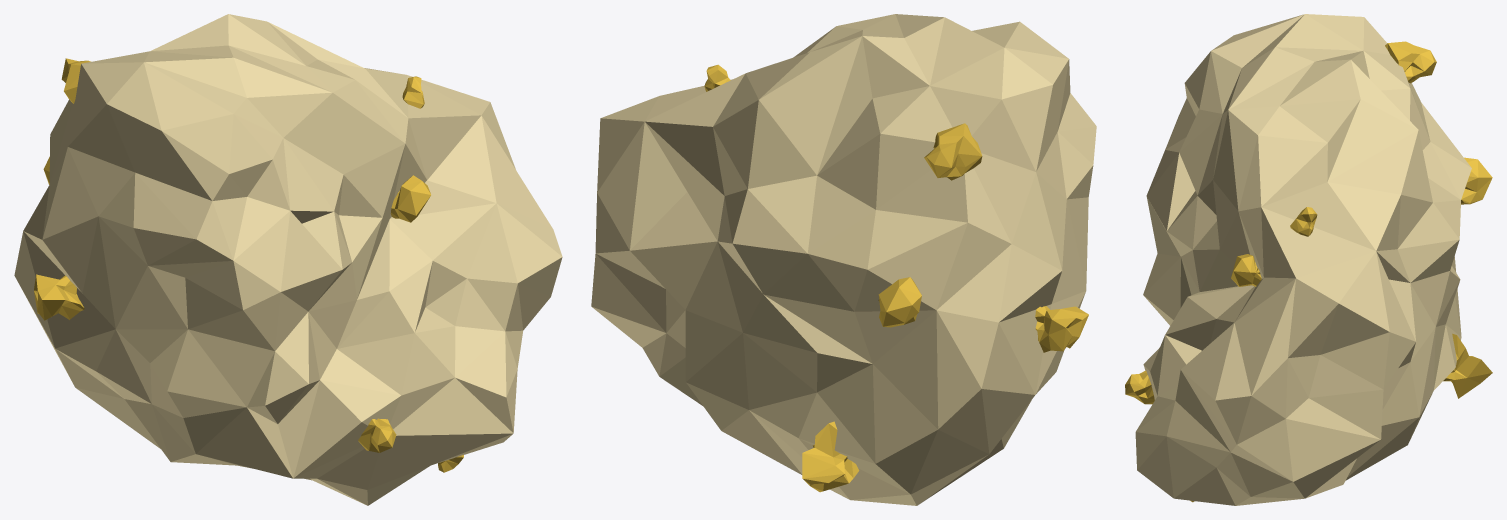
Rendered from MetalOre (58).fbx.
3 renders of one model, left to right at view 1: azimuth 30°, elevation 25°; view 2: azimuth 150°, elevation 25°; view 3: azimuth 270°, elevation 25°, orthographic. The views are drawn at different scales.
Visible parts, largest first — view 1: Asteroid413; view 2: Asteroid413; view 3: Asteroid413.
Part boxes in pixels (x1,y1,x2,y2): Asteroid413: (14,14,562,505); Asteroid413: (591,14,1096,505); Asteroid413: (1125,14,1492,505).
Bounding box in the file's own units: 580 × 536 × 435.
